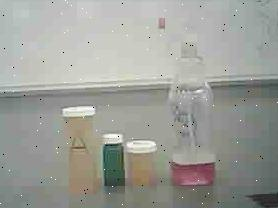Bottle A: (58, 100, 102, 197)
Bottle B: (126, 130, 162, 189)
Bottle C: (98, 124, 128, 191)
hazard: (158, 9, 228, 188)
